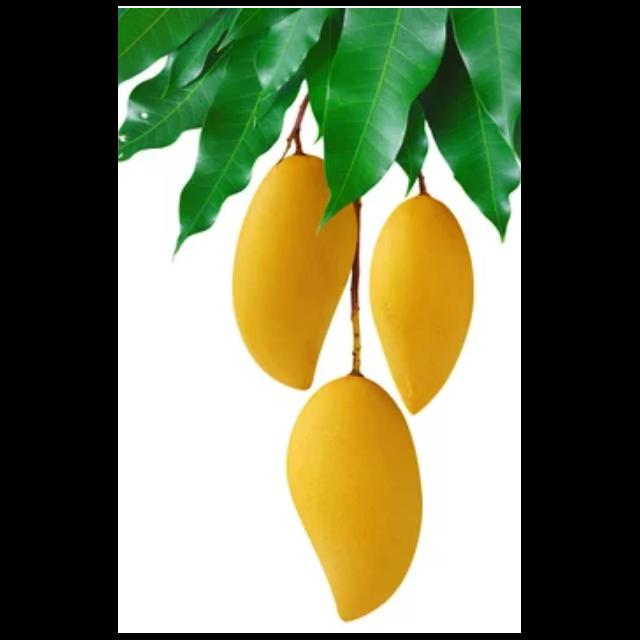mango: (283, 371, 426, 622), (232, 151, 361, 390), (369, 194, 475, 419)
